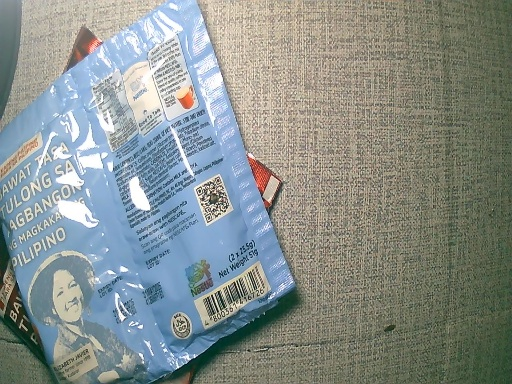plastic: (1, 1, 295, 384), (1, 241, 59, 368)
